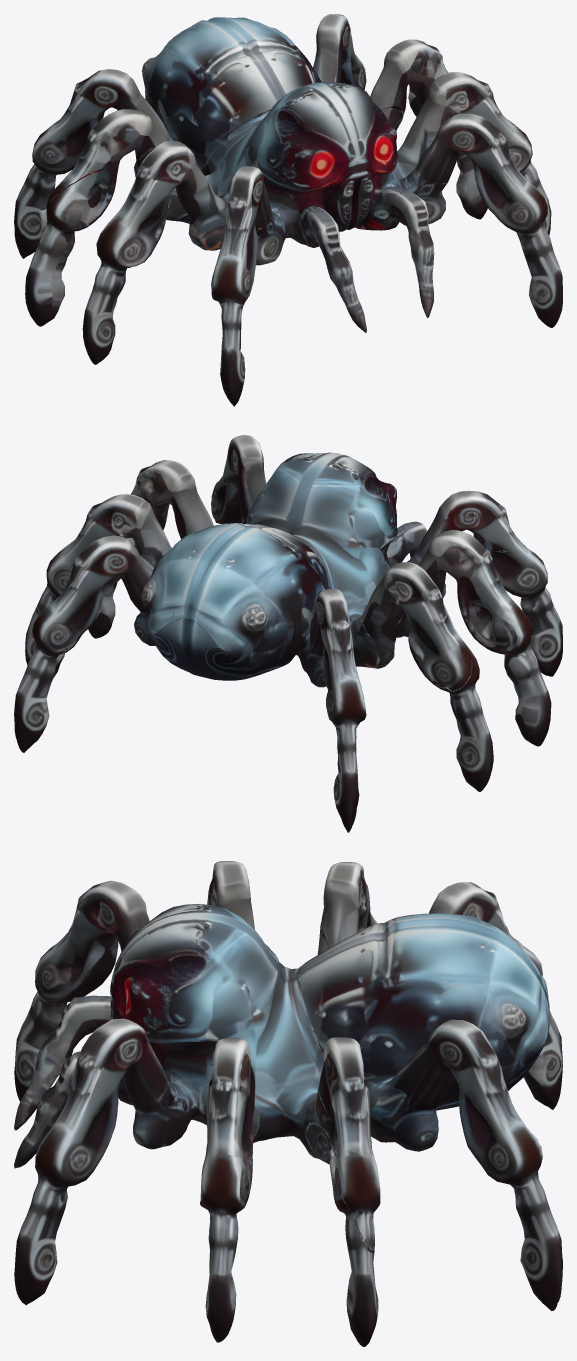
Rendered from spider2full-compressed.glb.
The picture shows the model from 3 angles, top to bottom: view 1: azimuth 30°, elevation 25°; view 2: azimuth 150°, elevation 25°; view 3: azimuth 270°, elevation 25°; orthographic projection. The views are drawn at different scales.
Visible parts, largest first — view 1: Object_2_cell; view 2: Object_2_cell; view 3: Object_2_cell.
Part boxes in pixels (x1,y1,x2,y2): Object_2_cell: (14, 14, 562, 406); Object_2_cell: (14, 435, 562, 832); Object_2_cell: (14, 861, 562, 1346).
Size of the model in its own units: 1.54 by 0.7333 by 1.24.
1 material, 1 textured.
